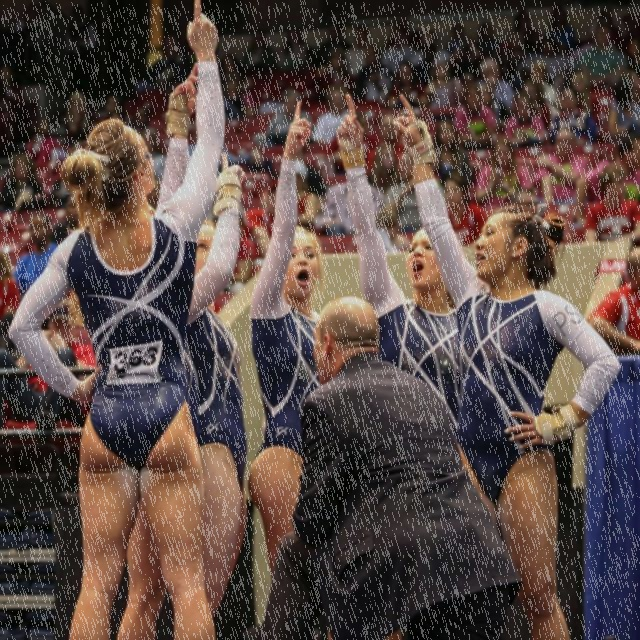pessoa: (5, 0, 231, 640), (391, 89, 625, 640), (251, 295, 526, 639), (150, 58, 252, 640), (334, 91, 476, 438), (247, 96, 326, 587), (179, 148, 245, 622), (1, 1, 200, 146), (0, 256, 94, 438), (254, 158, 328, 316), (492, 192, 570, 326), (574, 124, 640, 228), (381, 150, 448, 252), (312, 150, 387, 236), (586, 244, 640, 356), (566, 76, 638, 158), (474, 136, 534, 217), (582, 163, 640, 241), (12, 212, 62, 302), (536, 130, 590, 206), (456, 77, 505, 160), (310, 20, 357, 101), (306, 46, 356, 122), (577, 22, 628, 96), (453, 85, 496, 168), (419, 48, 467, 122), (353, 46, 398, 124), (342, 17, 384, 100), (242, 178, 282, 262), (432, 119, 472, 202), (274, 24, 316, 102), (444, 174, 488, 247), (474, 56, 516, 132), (262, 87, 316, 144), (49, 147, 81, 235), (0, 152, 44, 214), (312, 81, 350, 145), (505, 7, 541, 74), (504, 92, 546, 146), (210, 55, 247, 116), (472, 20, 509, 80), (526, 35, 574, 79), (580, 7, 624, 53), (444, 22, 476, 85), (386, 60, 429, 106), (235, 214, 263, 282), (366, 142, 403, 192), (514, 80, 551, 129), (530, 60, 564, 111), (380, 28, 420, 70), (544, 4, 575, 56), (499, 29, 529, 81), (620, 1, 640, 76), (358, 62, 393, 101), (243, 31, 273, 74), (416, 29, 452, 64), (462, 40, 480, 84), (628, 244, 639, 304)
